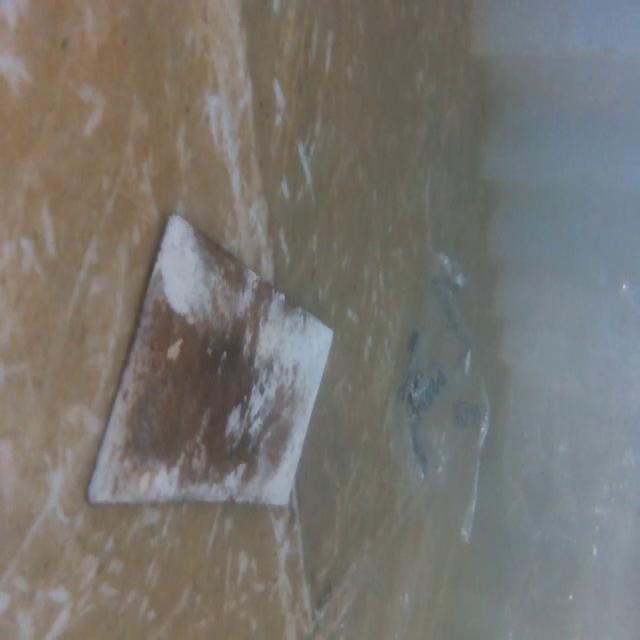metal: (91, 212, 332, 510)
plastic bags: (384, 248, 491, 539), (520, 389, 640, 640)
